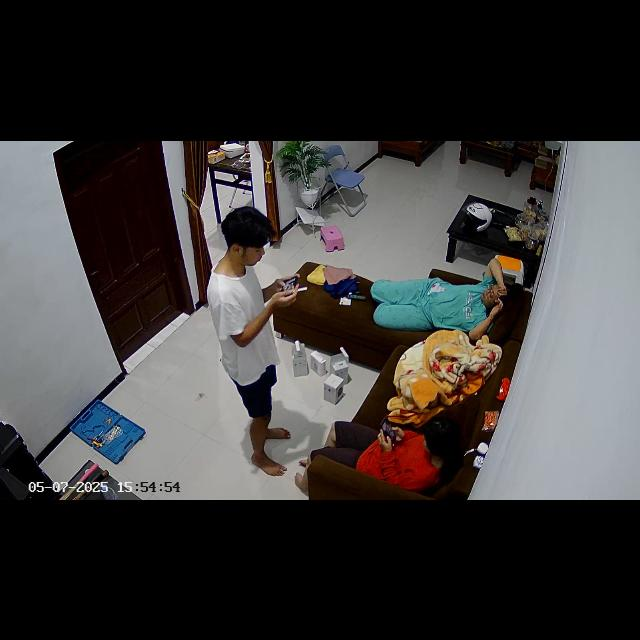rokok: (294, 284, 310, 292)
